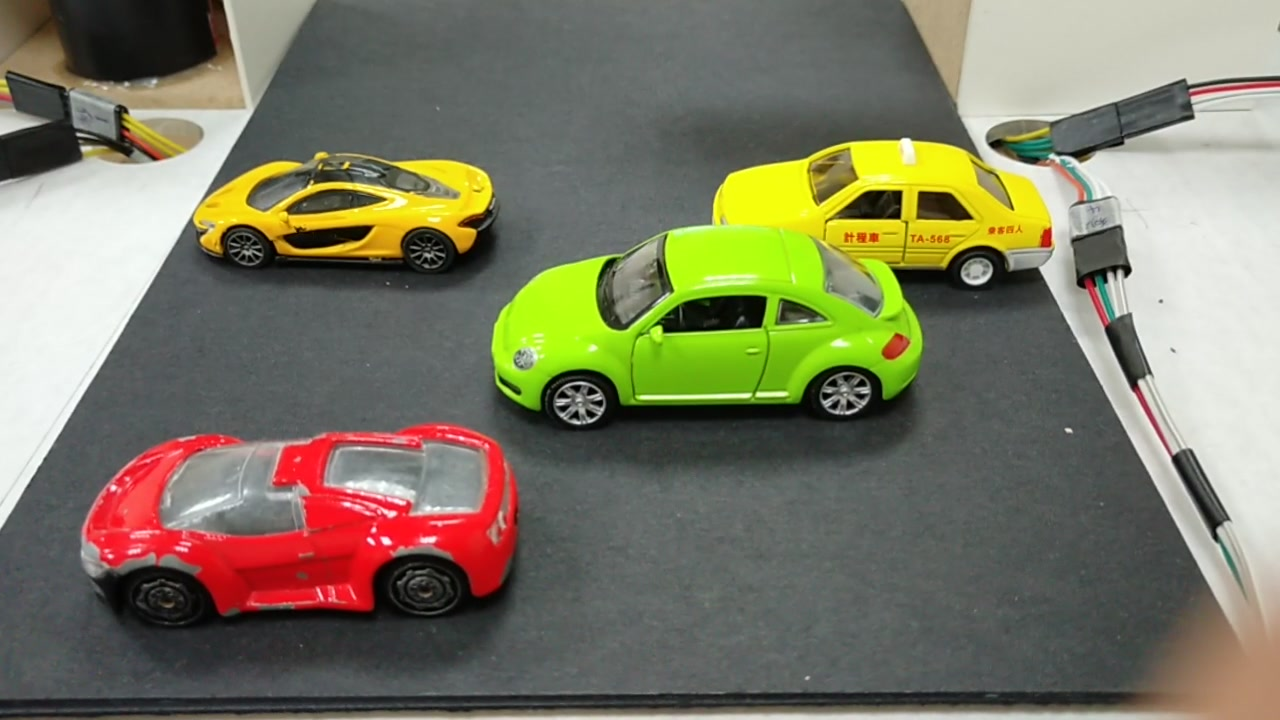car: (89, 443, 523, 619), (490, 238, 923, 410), (705, 146, 1057, 273), (194, 161, 500, 265)
